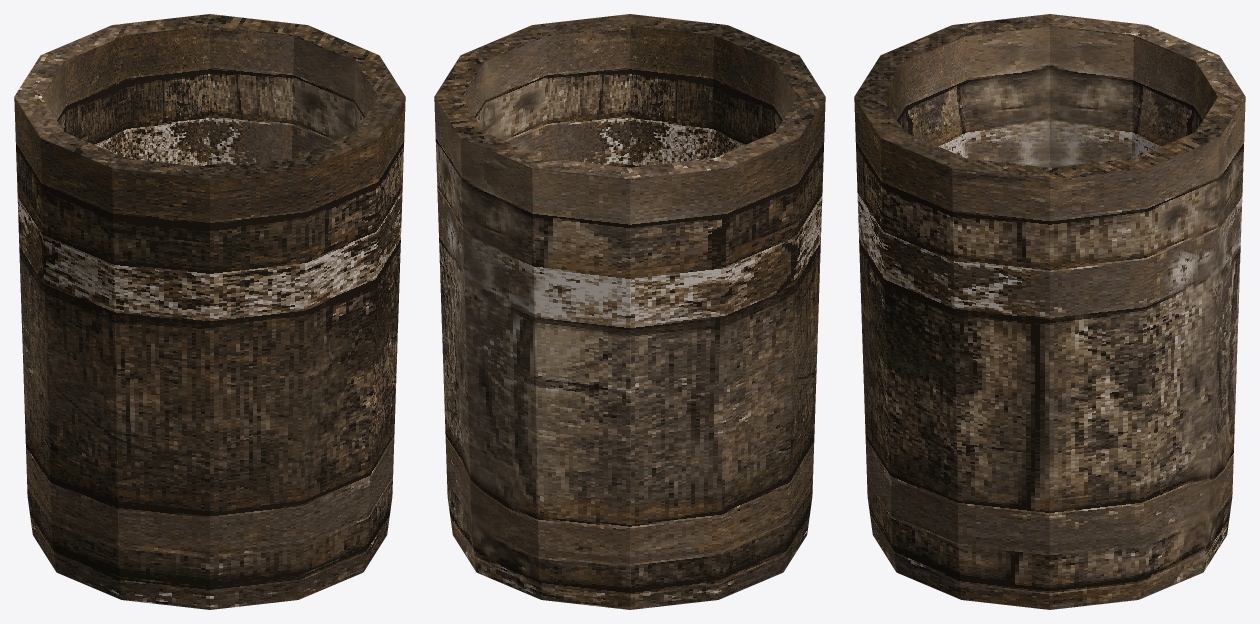
File: barrel.glb
3 views of the same model, side by side, from view 1: azimuth 30°, elevation 25°; view 2: azimuth 150°, elevation 25°; view 3: azimuth 270°, elevation 25° (orthographic).
Parts seen in each view (by area): view 1: SM_PSX_WoodenBarrel_0; view 2: SM_PSX_WoodenBarrel_0; view 3: SM_PSX_WoodenBarrel_0.
Part boxes in pixels (<box>): SM_PSX_WoodenBarrel_0: <box>14,14,405,609</box>; SM_PSX_WoodenBarrel_0: <box>434,14,825,609</box>; SM_PSX_WoodenBarrel_0: <box>854,14,1245,609</box>.
Bounding box in the file's own units: 0.7662 × 0.9471 × 0.7662.
1 material, 1 textured.
